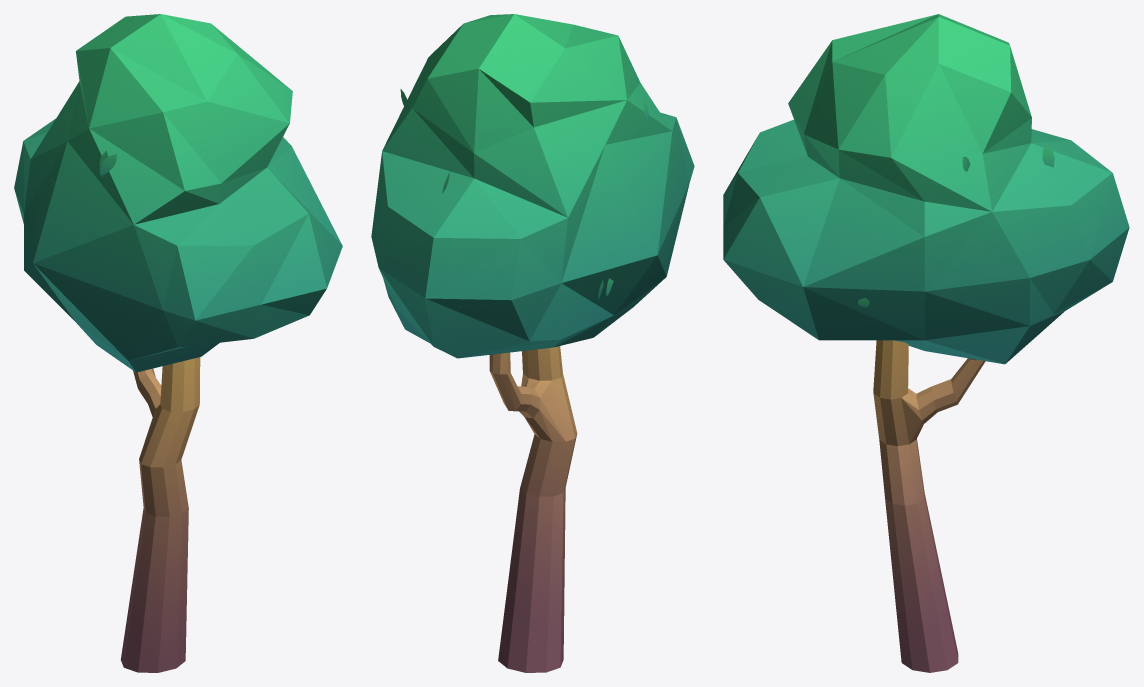
Rendered from albero4.glb.
3 views of the same model, side by side, from view 1: azimuth 30°, elevation 25°; view 2: azimuth 150°, elevation 25°; view 3: azimuth 270°, elevation 25° (orthographic).
Size of the model in its own units: 82.16 by 194 by 110.
Materials: 1 (1 with a texture image).
